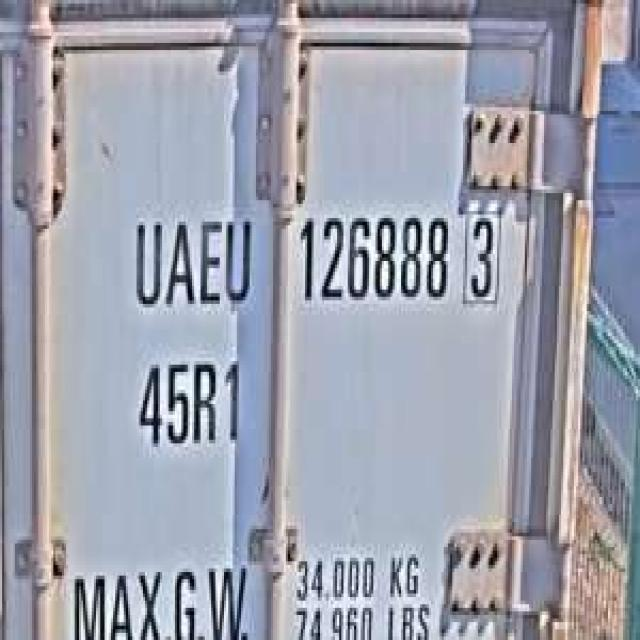dv: (458, 197, 506, 311)
owner: (128, 197, 256, 318)
serial: (292, 197, 452, 311)
size: (130, 343, 248, 458)
